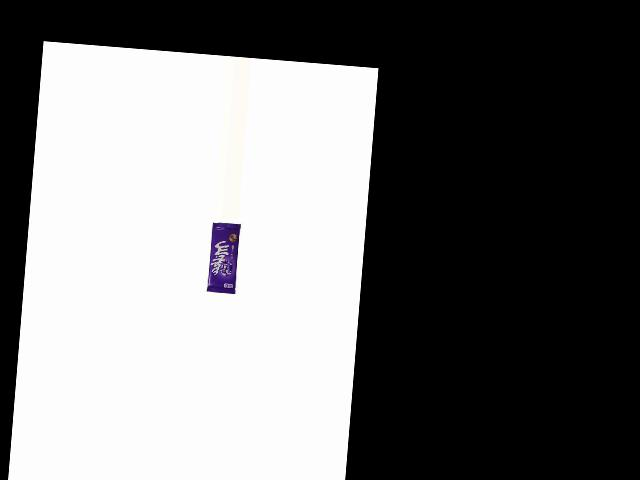chocolate: (205, 221, 244, 298)
